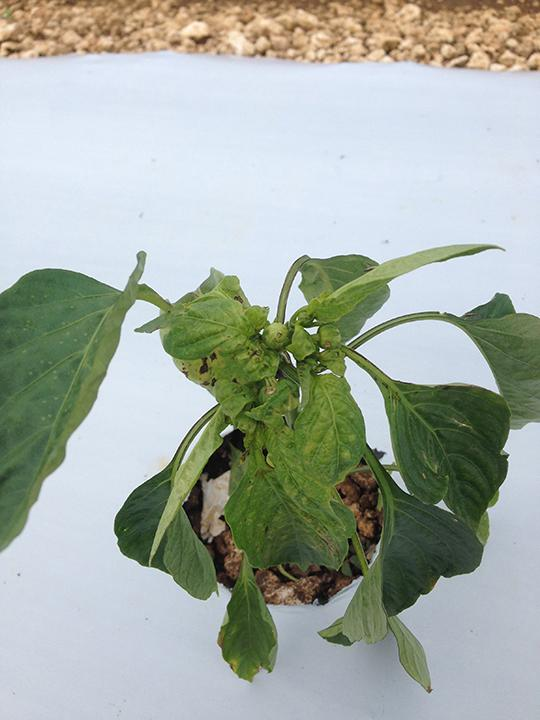Bell_pepper leaf: (1, 247, 146, 545), (376, 369, 520, 547), (227, 458, 352, 587), (212, 557, 289, 694), (289, 368, 375, 487), (150, 297, 259, 362)
